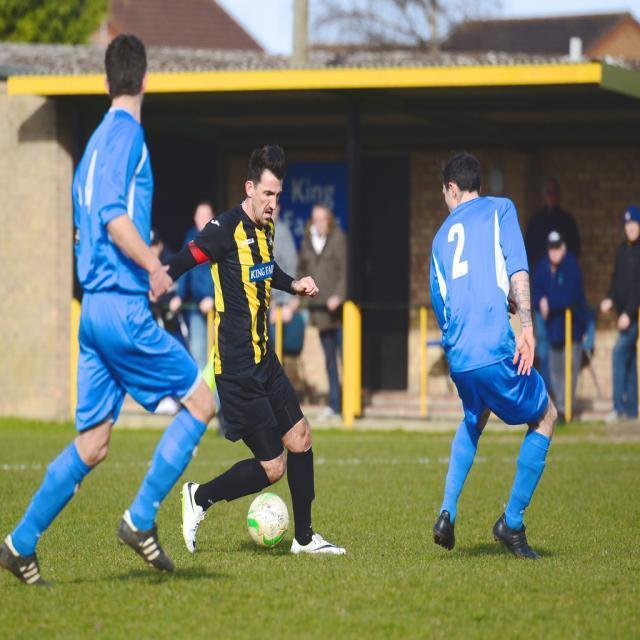football: (236, 480, 296, 546)
